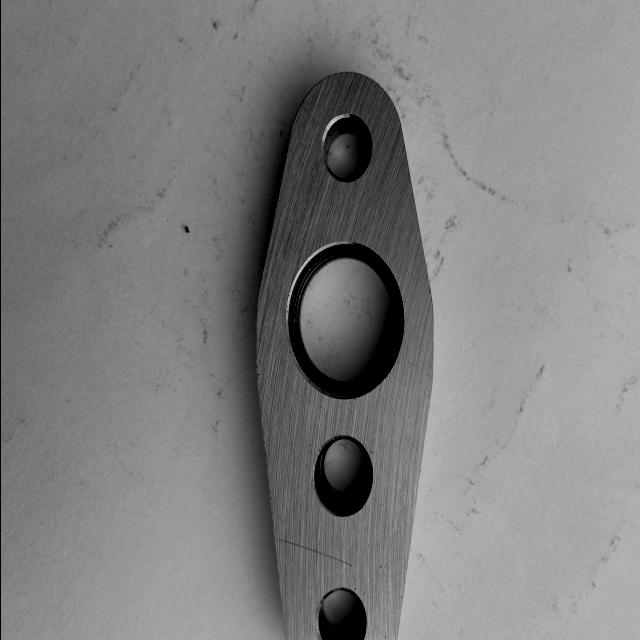lines: (276, 534, 352, 568)
